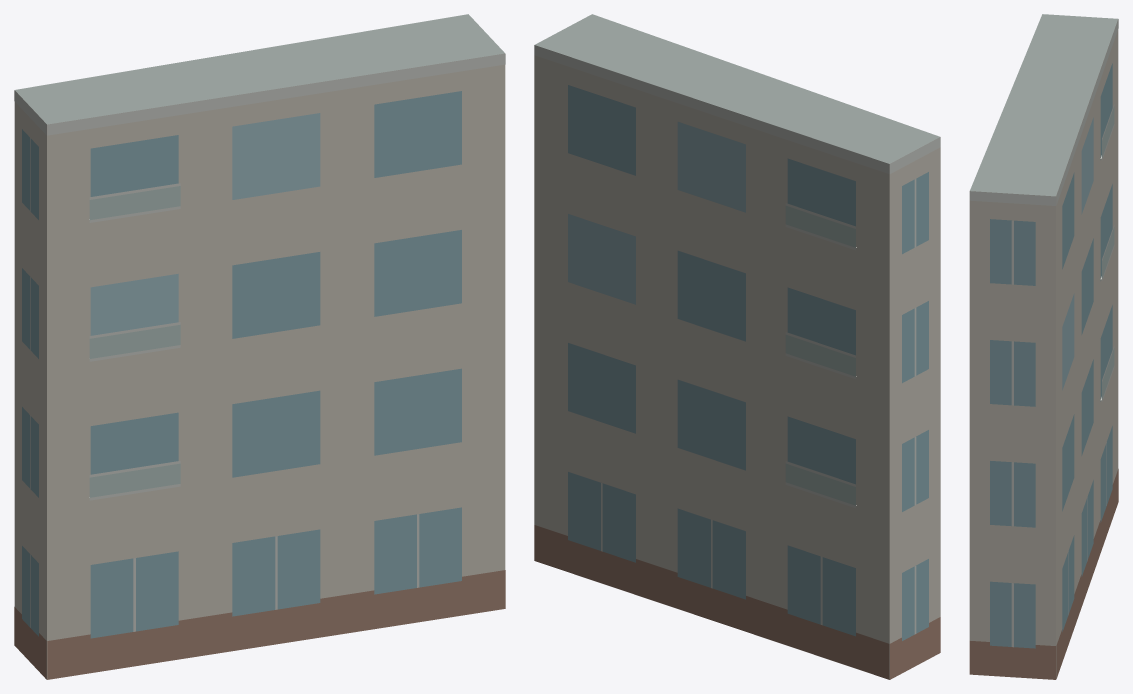
The model's file is survey-upis-32487853.glb.
3 renders of one model, left to right at view 1: azimuth 30°, elevation 25°; view 2: azimuth 150°, elevation 25°; view 3: azimuth 270°, elevation 25°, orthographic. The views are drawn at different scales.
Visible parts, largest first — view 1: survey-upis-32487853.tmp; view 2: survey-upis-32487853.tmp; view 3: survey-upis-32487853.tmp.
Boxes of the visible parts, x1,y1,x2,y2 form: survey-upis-32487853.tmp: [14, 14, 505, 679]; survey-upis-32487853.tmp: [534, 14, 940, 679]; survey-upis-32487853.tmp: [969, 14, 1118, 679].
Size of the model in its own units: 9.88 by 12.2 by 3.41.
